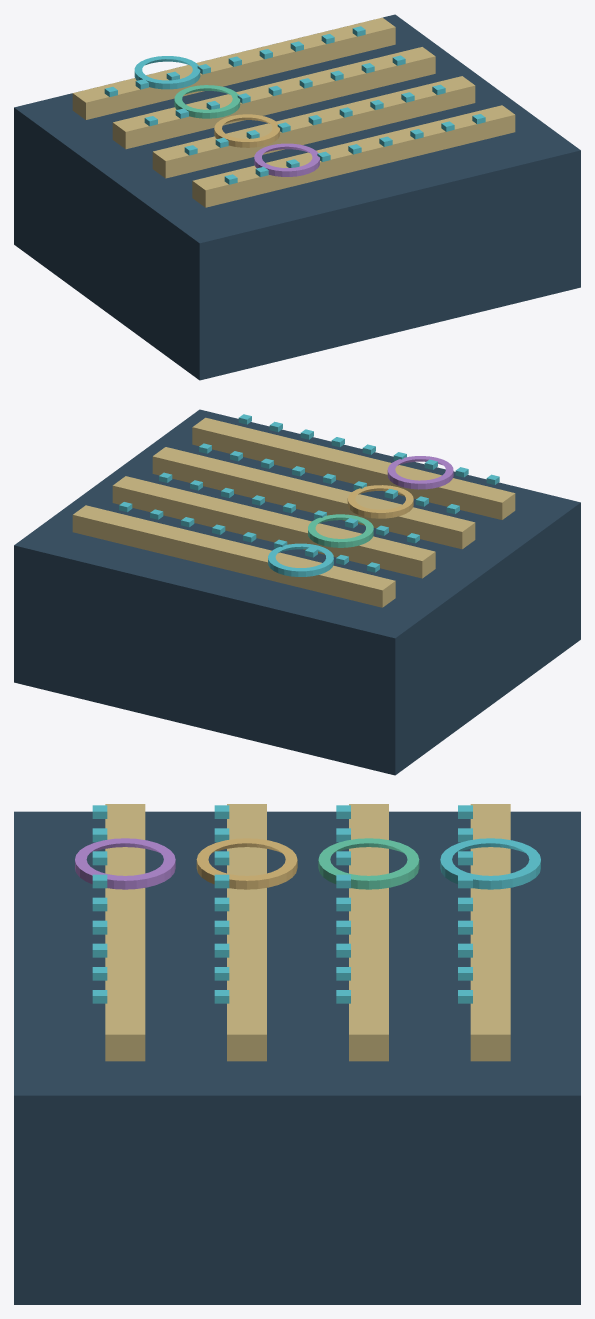
Rendered from 21_L80_ElectroOpticalModulatorArray.glb.
3 renders of one model, top to bottom at view 1: azimuth 30°, elevation 25°; view 2: azimuth 150°, elevation 25°; view 3: azimuth 270°, elevation 25°, orthographic. The views are drawn at different scales.
Parts seen in each view (by area): view 1: ElectroOpticalModulatorArray_Node_0000, ElectroOpticalModulatorArray_Node_0034, ElectroOpticalModulatorArray_Node_0023, ElectroOpticalModulatorArray_Node_0012, ElectroOpticalModulatorArray_Node_0001, ElectroOpticalModulatorArray_Node_0024, ElectroOpticalModulatorArray_Node_0002, ElectroOpticalModulatorArray_Node_0013, ElectroOpticalModulatorArray_Node_0035; view 2: ElectroOpticalModulatorArray_Node_0000, ElectroOpticalModulatorArray_Node_0001, ElectroOpticalModulatorArray_Node_0023, ElectroOpticalModulatorArray_Node_0034, ElectroOpticalModulatorArray_Node_0012, ElectroOpticalModulatorArray_Node_0035, ElectroOpticalModulatorArray_Node_0024, ElectroOpticalModulatorArray_Node_0002, ElectroOpticalModulatorArray_Node_0013; view 3: ElectroOpticalModulatorArray_Node_0000, ElectroOpticalModulatorArray_Node_0034, ElectroOpticalModulatorArray_Node_0001, ElectroOpticalModulatorArray_Node_0012, ElectroOpticalModulatorArray_Node_0023, ElectroOpticalModulatorArray_Node_0024, ElectroOpticalModulatorArray_Node_0013, ElectroOpticalModulatorArray_Node_0035, ElectroOpticalModulatorArray_Node_0002.
Part boxes in pixels (<box>): ElectroOpticalModulatorArray_Node_0000: <box>14,14,580,380</box>; ElectroOpticalModulatorArray_Node_0034: <box>192,105,515,207</box>; ElectroOpticalModulatorArray_Node_0023: <box>152,76,475,178</box>; ElectroOpticalModulatorArray_Node_0012: <box>112,47,435,149</box>; ElectroOpticalModulatorArray_Node_0001: <box>72,17,395,119</box>; ElectroOpticalModulatorArray_Node_0024: <box>214,114,280,147</box>; ElectroOpticalModulatorArray_Node_0002: <box>134,56,200,89</box>; ElectroOpticalModulatorArray_Node_0013: <box>174,85,240,118</box>; ElectroOpticalModulatorArray_Node_0035: <box>254,143,319,176</box>; ElectroOpticalModulatorArray_Node_0000: <box>14,409,580,775</box>; ElectroOpticalModulatorArray_Node_0001: <box>72,505,395,607</box>; ElectroOpticalModulatorArray_Node_0023: <box>152,447,475,549</box>; ElectroOpticalModulatorArray_Node_0034: <box>192,417,515,519</box>; ElectroOpticalModulatorArray_Node_0012: <box>112,476,435,578</box>; ElectroOpticalModulatorArray_Node_0035: <box>387,456,453,489</box>; ElectroOpticalModulatorArray_Node_0024: <box>347,485,413,518</box>; ElectroOpticalModulatorArray_Node_0002: <box>268,543,333,576</box>; ElectroOpticalModulatorArray_Node_0013: <box>308,514,373,547</box>; ElectroOpticalModulatorArray_Node_0000: <box>14,811,580,1304</box>; ElectroOpticalModulatorArray_Node_0034: <box>105,804,145,1061</box>; ElectroOpticalModulatorArray_Node_0001: <box>470,804,510,1061</box>; ElectroOpticalModulatorArray_Node_0012: <box>349,804,388,1061</box>; ElectroOpticalModulatorArray_Node_0023: <box>227,804,266,1061</box>; ElectroOpticalModulatorArray_Node_0024: <box>196,838,297,889</box>; ElectroOpticalModulatorArray_Node_0013: <box>318,838,419,889</box>; ElectroOpticalModulatorArray_Node_0035: <box>75,838,175,889</box>; ElectroOpticalModulatorArray_Node_0002: <box>440,838,540,889</box>.
Size of the model in its own units: 1.6 by 0.758 by 1.35.
